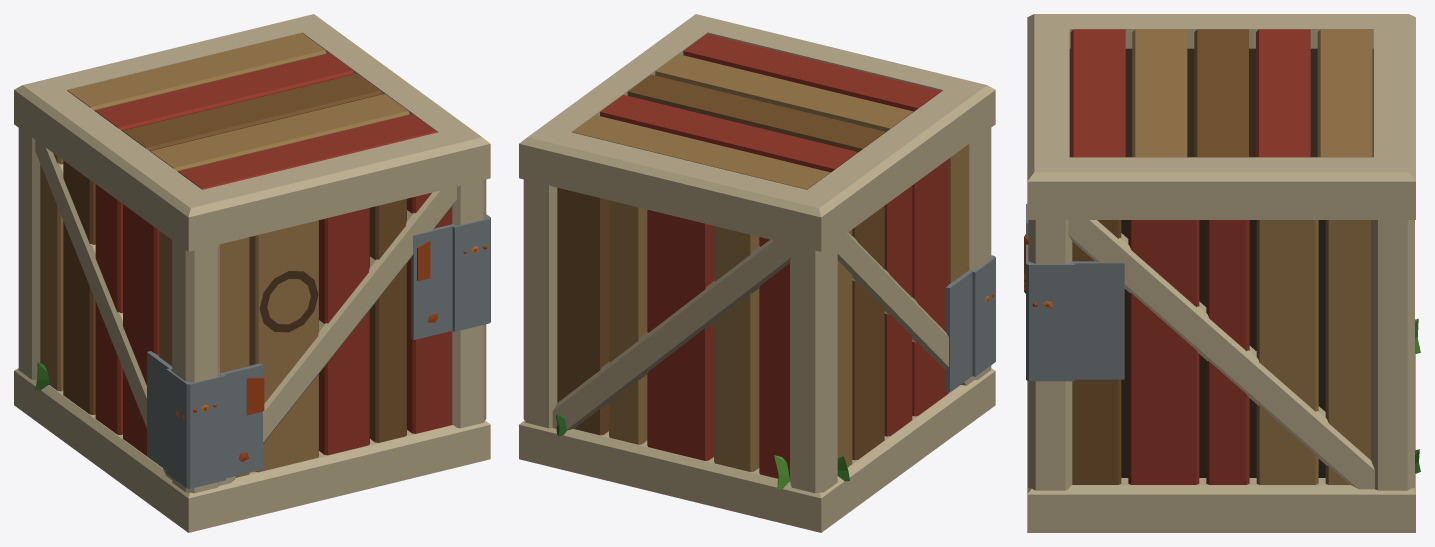
File: salvage-crate-3a7e1d.glb
3 renders of one model, left to right at view 1: azimuth 30°, elevation 25°; view 2: azimuth 150°, elevation 25°; view 3: azimuth 270°, elevation 25°, orthographic. The views are drawn at different scales.
Parts seen in each view (by area): view 1: crate, lid-boards; view 2: crate, lid-boards; view 3: crate, lid-boards.
Boxes of the visible parts, x1,y1,x2,y2 form: crate: (14, 14, 490, 532); lid-boards: (67, 33, 436, 189); crate: (519, 14, 995, 532); lid-boards: (572, 34, 941, 189); crate: (1024, 14, 1420, 532); lid-boards: (1070, 29, 1372, 157).
Bounding box in the file's own units: 0.804 × 0.8 × 0.8045.
